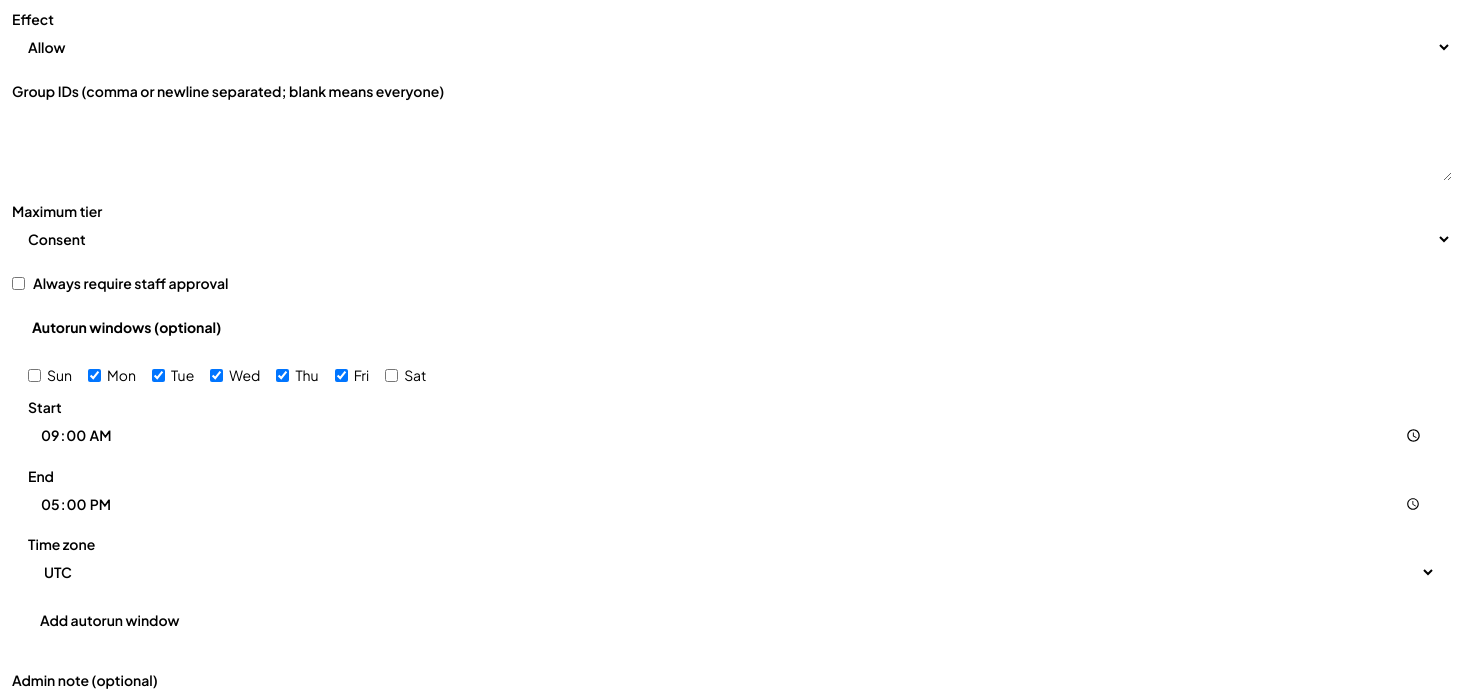
OrgActionPolicyPanel › shows the policy controls and validates time-zone input inline
(page scrolled)
Check: the dropdown labelled "Effect" is shown, box [12, 29, 1452, 65]
Check: the dropdown labelled "Maximum tier" is shown, box [12, 221, 1452, 257]
Select "Invalid/Zone" in the dropdown labelled "Time zone" at (732, 572), box [28, 554, 1436, 590]
Click the button "Add autorun window".
click(110, 620)  # box [28, 602, 192, 638]
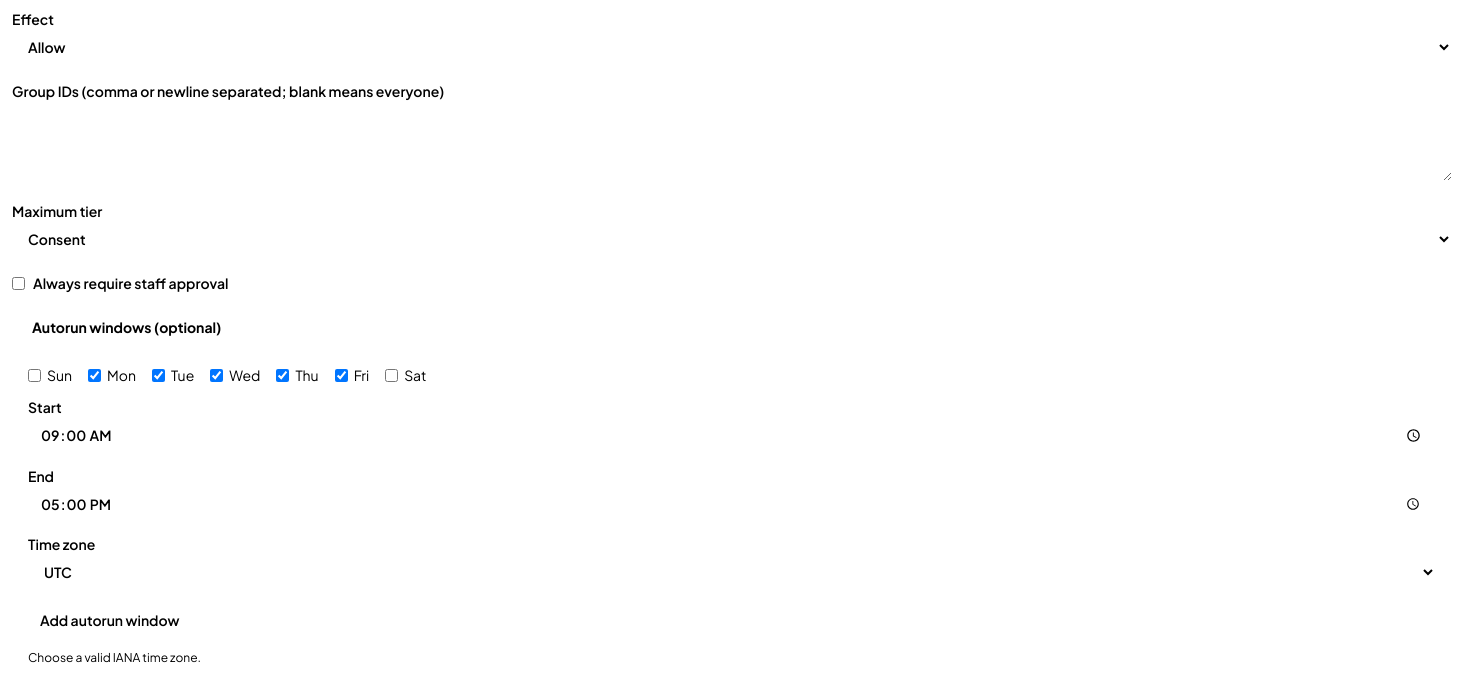
Check: the message reads "Choose a valid IANA time zone.", box [28, 650, 201, 665]
